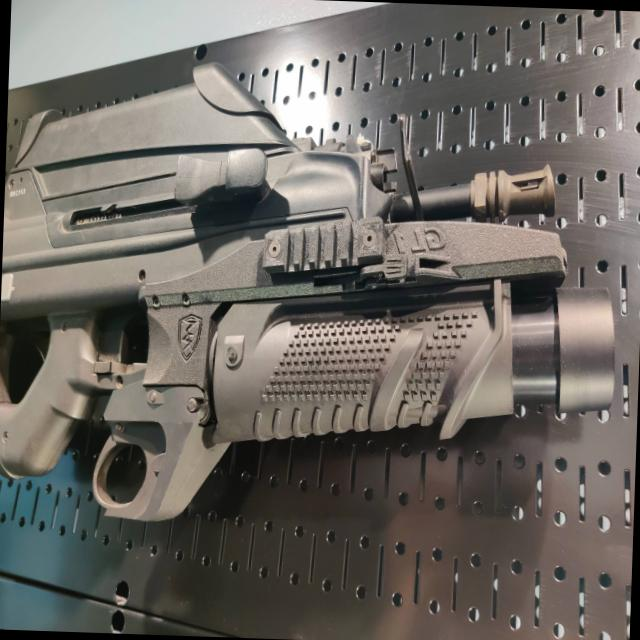Weapon: (0, 43, 629, 533)
